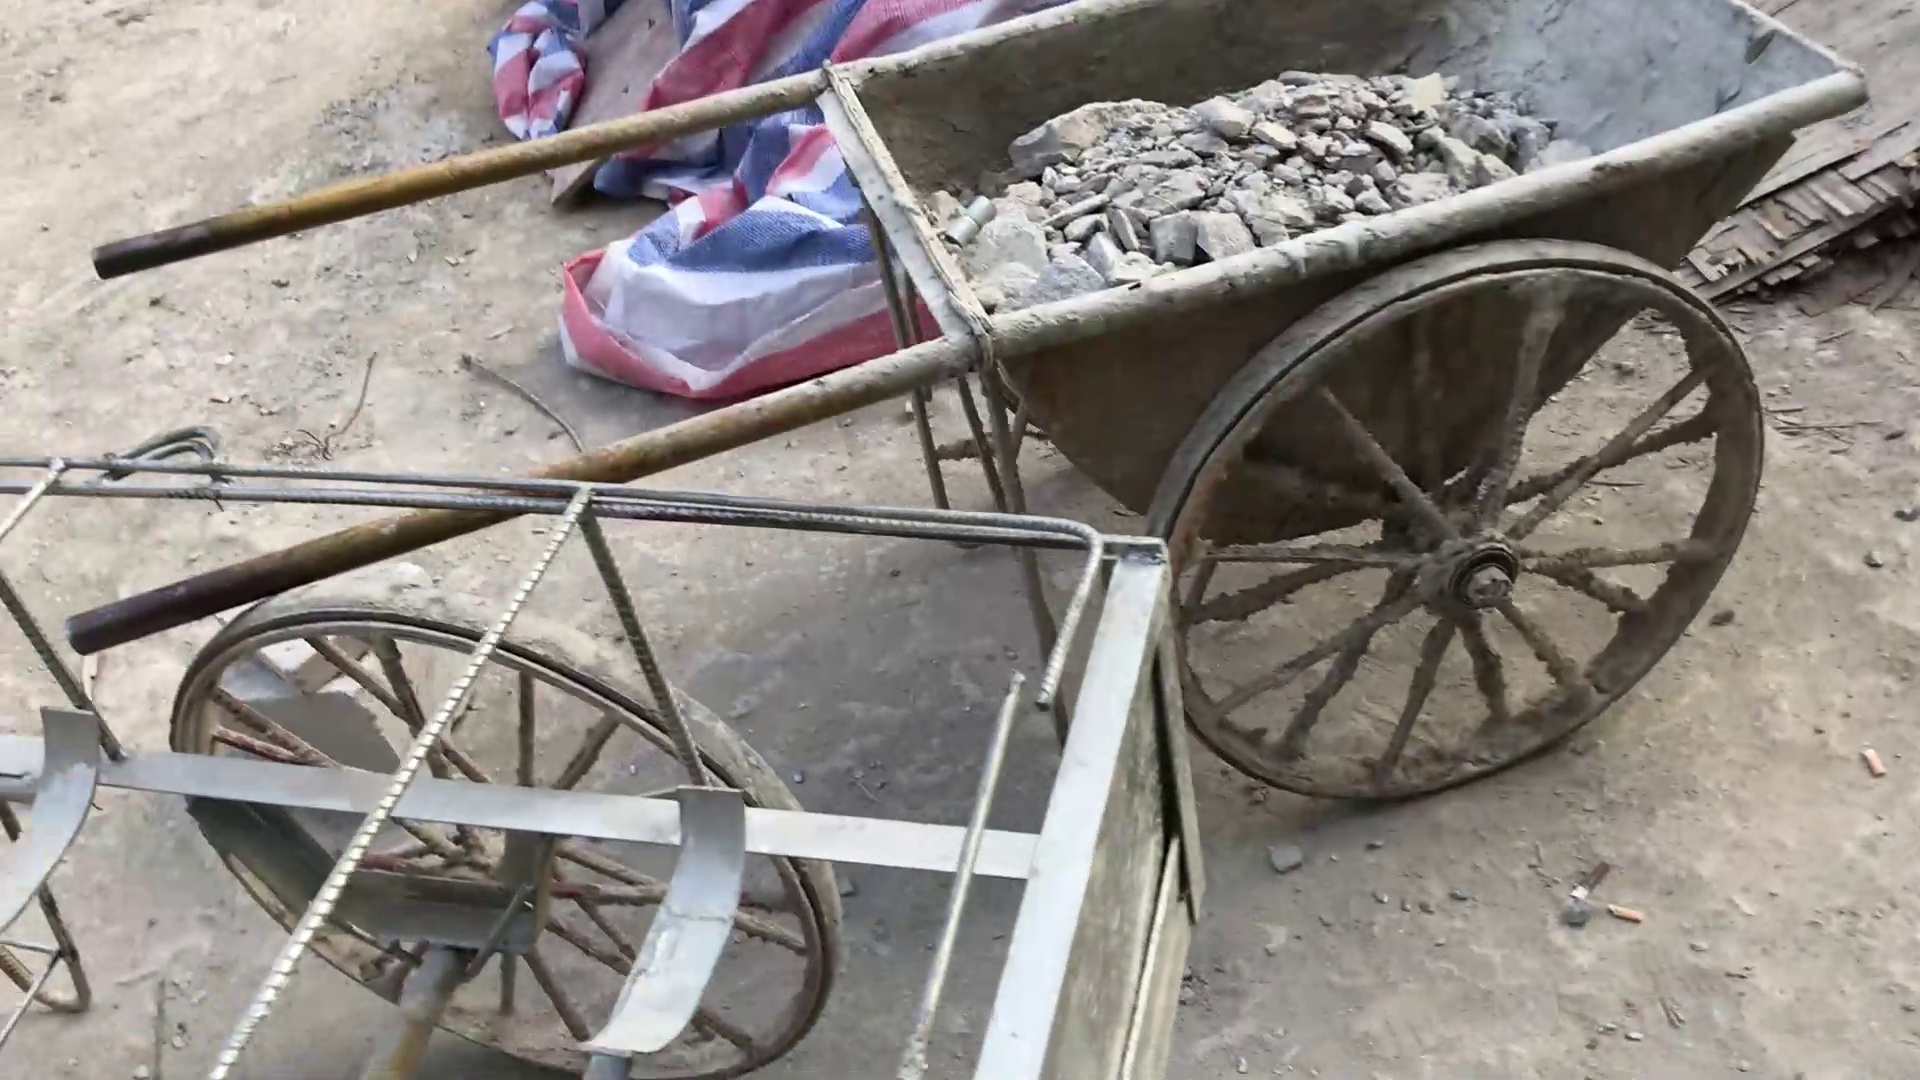handcart: (98, 1, 1866, 837), (41, 430, 1273, 1080)
